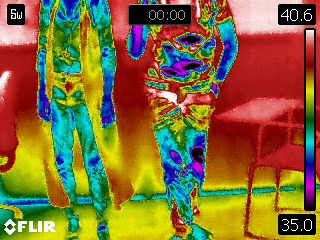human: (129, 1, 241, 240), (41, 1, 118, 239)
